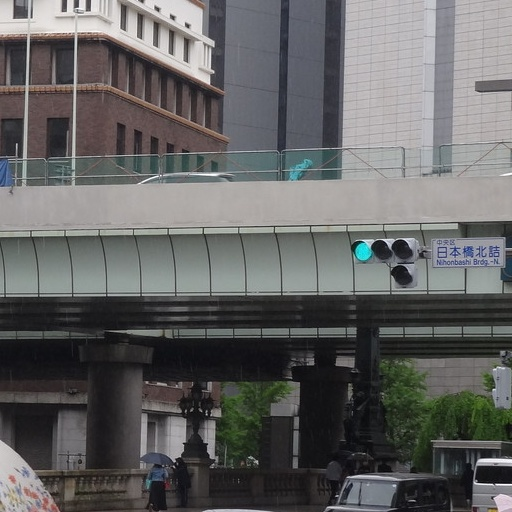Traffic_Signal_Blue: (355, 233, 424, 266)
